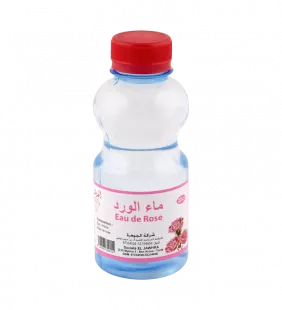JAWHARA: (83, 20, 197, 284)
